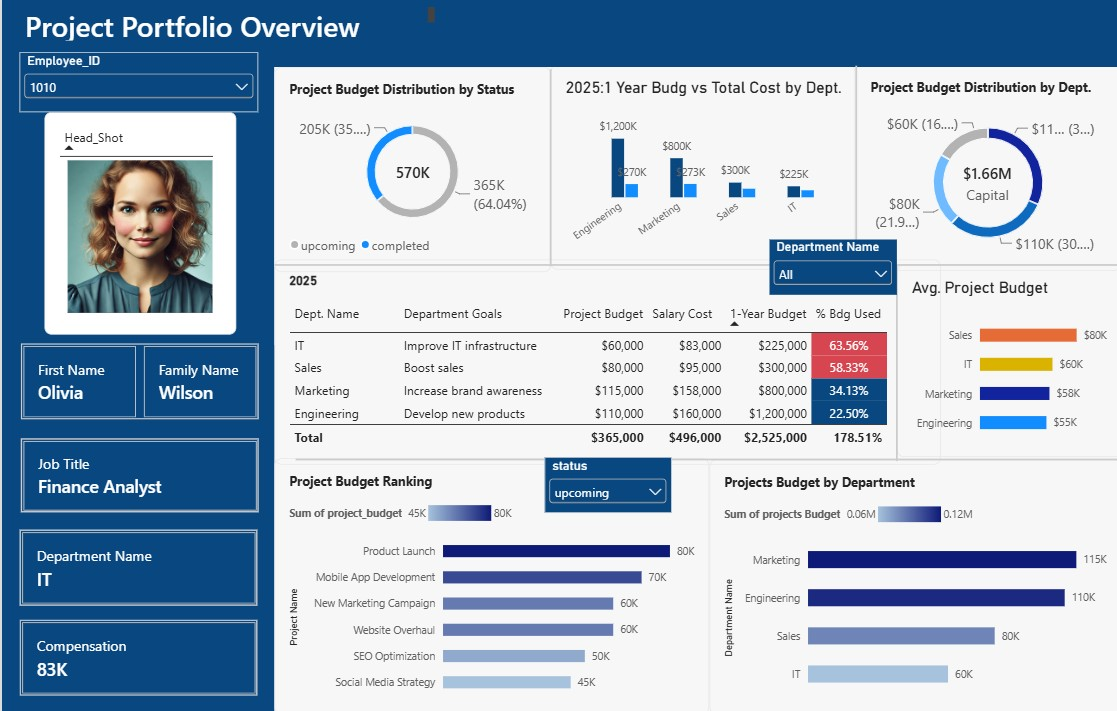

The page's visual inventory and layout, read from the dashboard file:
{"tool":"powerbi","page":{"name":"Page 1","canvas":[1280,820],"ordinal":0},"visuals":[{"type":"tableEx","title":"2025","fields":{"Values":["Cost.Department_Name","Cost.Department_Goals","Sum(Cost.Project Cost)","Sum(Cost.Salary Cost)","Sum(Cost.1-Year Budget)","Sum(Cost.Budged Used %)"]},"box":[311.6,300.4,761.6,234.8],"z":0},{"type":"barChart","title":"Avg. Project Budget","fields":{"Category":["Dept_Status.Department_Name"],"Y":["Sum(Dept_Status.Avg_Project_Cost)"]},"box":[1022.5,306.2,257.5,220],"z":1000},{"type":"donutChart","title":"Project Budget Distribution by Dept.","fields":{"Category":["Cost.Department_Name"],"Y":["Sum(Cost.Project Cost)"]},"box":[975.7,77.1,302.9,235.7],"z":3000},{"type":"clusteredColumnChart","title":"2025:1 Year Budg vs Total Cost by Dept.","fields":{"Y":["Sum(Cost.1-Year Budget)","Sum(Cost.Total Cost)"],"Category":["Cost.Department_Name"]},"box":[627.4,76.9,348.2,234.5],"z":4000},{"type":"shape","box":[0,0,1910,80],"z":5000},{"type":"shape","box":[0,0,311.4,1080],"z":6000},{"type":"tableEx","fields":{"Values":["Head_Shots.Head_Shot"]},"box":[48.6,131.4,218.9,254.4],"z":7000},{"type":"slicer","fields":{"Values":["Head_Shots.Employee_ID"]},"box":[19.6,62.9,272.9,68.6],"z":8000},{"type":"cardVisual","fields":{"Data":["Min(Query1.first_name)","Min(Query1.last_name)"]},"box":[21.4,395.7,272.9,87.1],"z":9000},{"type":"cardVisual","fields":{"Data":["Min(Query1.job_title)"]},"box":[21.4,504.3,272.9,85.7],"z":10000},{"type":"cardVisual","fields":{"Data":["Min(Query1.Department_Name)"]},"box":[20,608.6,272.9,87.1],"z":11000},{"type":"cardVisual","fields":{"Data":["Sum(Query1.salary)"]},"box":[20,711.4,272.9,87.1],"z":12000},{"type":"cardVisual","fields":{"Data":["Sum(Cost.Capital)"]},"box":[1073.2,169.1,107.1,90],"z":13000},{"type":"donutChart","title":"Project Budget Distribution by Status","fields":{"Category":["Query1.status"],"Y":["Sum(Query1.project_budget)"]},"box":[311.6,79.7,315.8,234.8],"z":14000},{"type":"cardVisual","fields":{"Data":["Sum(Query1.project_budget)"]},"box":[410.8,152.3,116.4,92.7],"z":15000},{"type":"clusteredBarChart","title":"Project Budget Ranking","fields":{"Category":["Query1.project_name"],"Y":["Sum(Query1.project_budget)"]},"box":[311.6,526.8,497.1,292.9],"z":16000},{"type":"clusteredBarChart","title":"Projects Budget by Department","fields":{"Category":["Query1.Department_Name"],"Y":["Sum(Query1.project_budget)"]},"box":[808.6,528.6,471.4,291.4],"z":17000},{"type":"shape","box":[335.7,521.4,944.3,14.3],"z":18000},{"type":"shape","box":[311.6,299,968.4,15.4],"z":19000},{"type":"shape","box":[588.3,82.4,76.9,225],"z":20000},{"type":"slicer","fields":{"Values":["Query1.status"]},"box":[620.5,525.4,145.3,64.3],"z":21000},{"type":"textbox","box":[25.7,11.4,468.6,38.6],"z":22000},{"type":"shape","box":[939.1,78.3,75.5,229.2],"z":23000},{"type":"shape","box":[983.8,307.4,76.9,223.6],"z":24000},{"type":"slicer","fields":{"Values":["Cost.Department_Name"]},"box":[877.6,276.7,145.3,62.9],"z":25000}]}

Visuals, with their boxes in screenshot pixels (x1, y1, x2, y2), scaled from the page's 1280x820 canvas onto the 1117x711 screenshot:
"2025" tableEx: 272,260,937,464
"Avg. Project Budget" barChart: 892,265,1116,456
"Project Budget Distribution by Dept." donutChart: 851,67,1116,271
"2025:1 Year Budg vs Total Cost by Dept." clusteredColumnChart: 548,67,851,270
shape: 0,0,1116,69
shape: 0,0,272,710
tableEx - Head_Shots.Head_Shot: 42,114,233,335
slicer - Head_Shots.Employee_ID: 17,55,255,114
cardVisual - Min(Query1.first_name) x Min(Query1.last_name): 19,343,257,419
cardVisual - Min(Query1.job_title): 19,437,257,512
cardVisual - Min(Query1.Department_Name): 17,528,256,603
cardVisual - Sum(Query1.salary): 17,617,256,692
cardVisual - Sum(Cost.Capital): 937,147,1030,225
"Project Budget Distribution by Status" donutChart: 272,69,548,273
cardVisual - Sum(Query1.project_budget): 358,132,460,212
"Project Budget Ranking" clusteredBarChart: 272,457,706,710
"Projects Budget by Department" clusteredBarChart: 706,458,1116,710
shape: 293,452,1116,464
shape: 272,259,1116,273
shape: 513,71,580,267
slicer - Query1.status: 541,456,668,511
textbox: 22,10,431,43
shape: 820,68,885,267
shape: 859,267,926,460
slicer - Cost.Department_Name: 766,240,893,294
